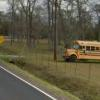Bus: (58, 36, 100, 66)
